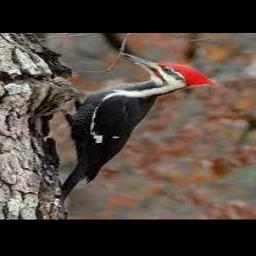Woodpecker: (59, 53, 217, 208)
